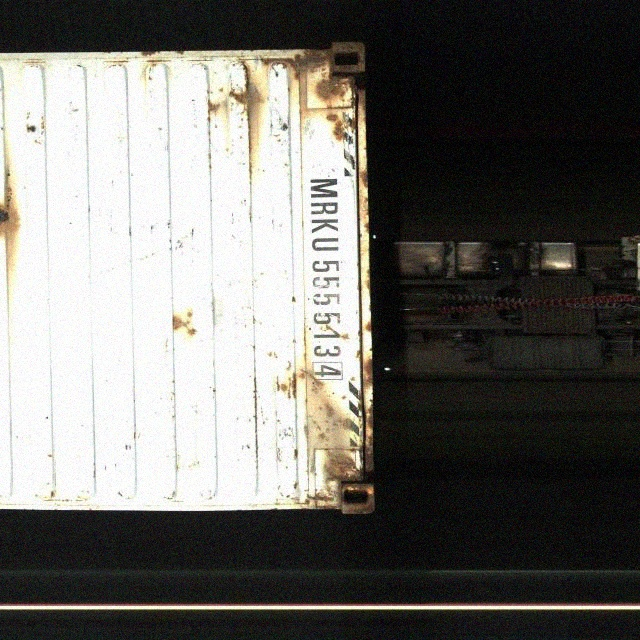Rusty: (294, 53, 347, 118), (313, 416, 368, 478), (230, 69, 268, 154), (2, 143, 23, 279), (278, 365, 328, 403), (165, 302, 201, 343)
